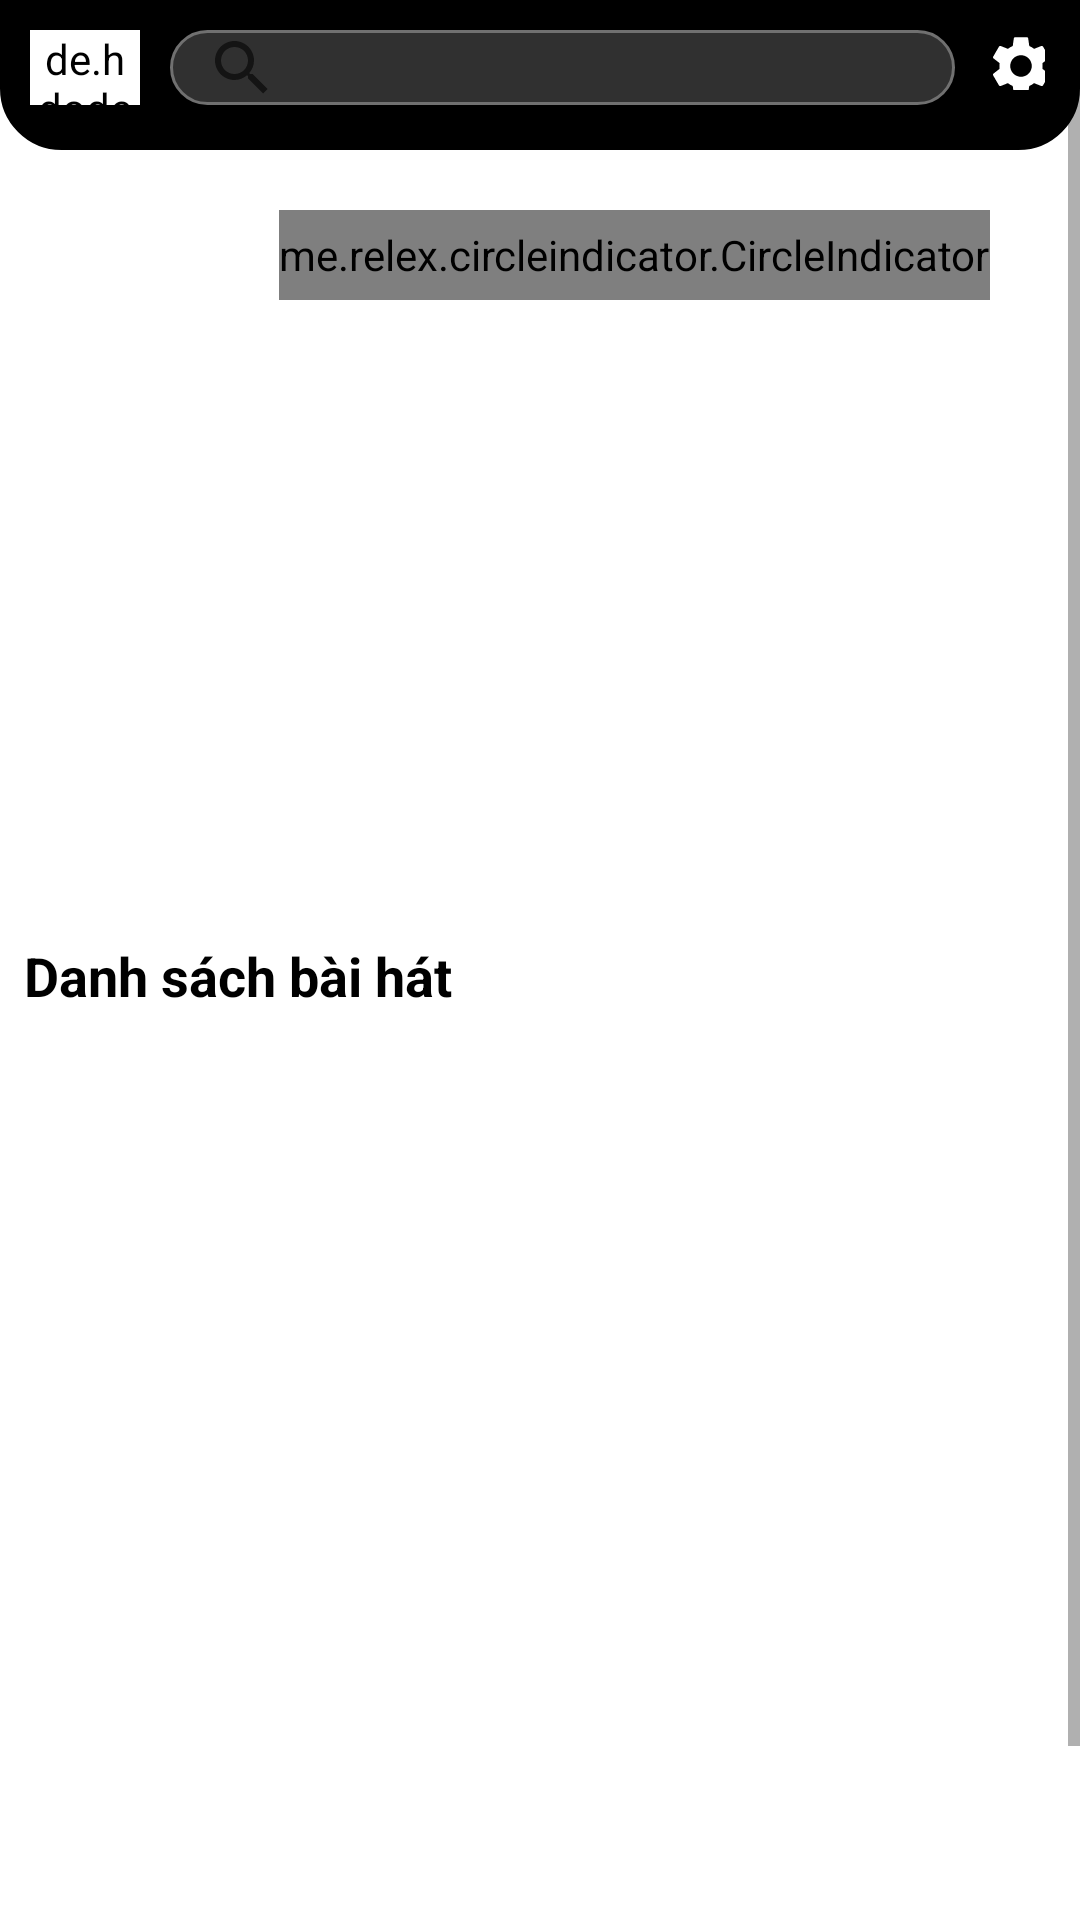

Named icons in this screenshot (1080 × 1920) and their centers, (x,y):
setting: (1019,63)
